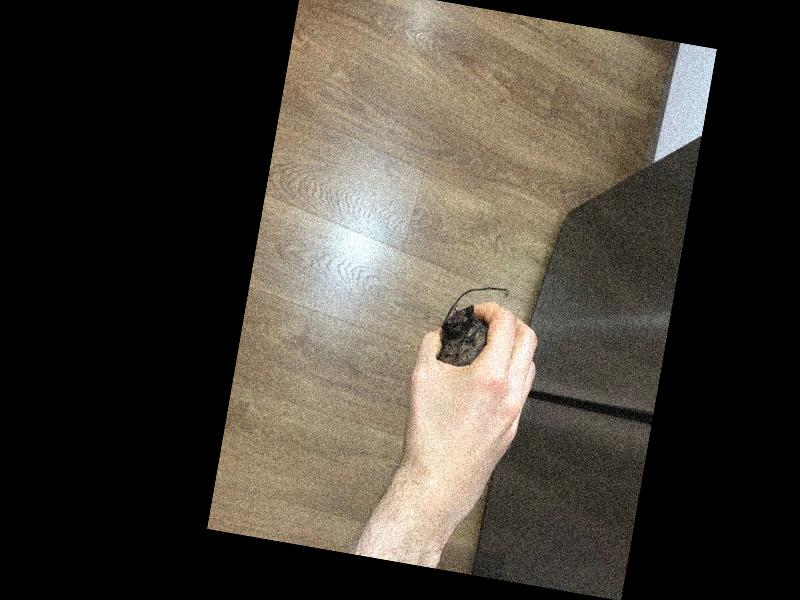Beet: (435, 276, 511, 372)
